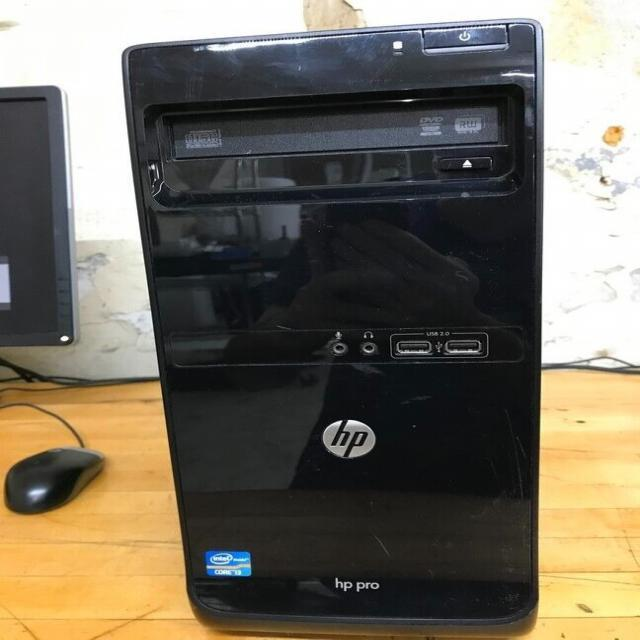Computer-Mouse: (1, 423, 110, 533)
Desktop-PC: (116, 14, 558, 638)
